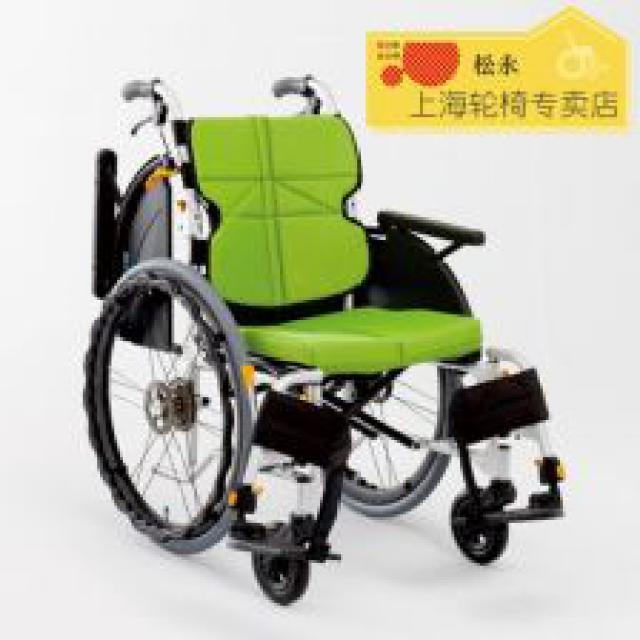wheelchair: (71, 65, 572, 606)
